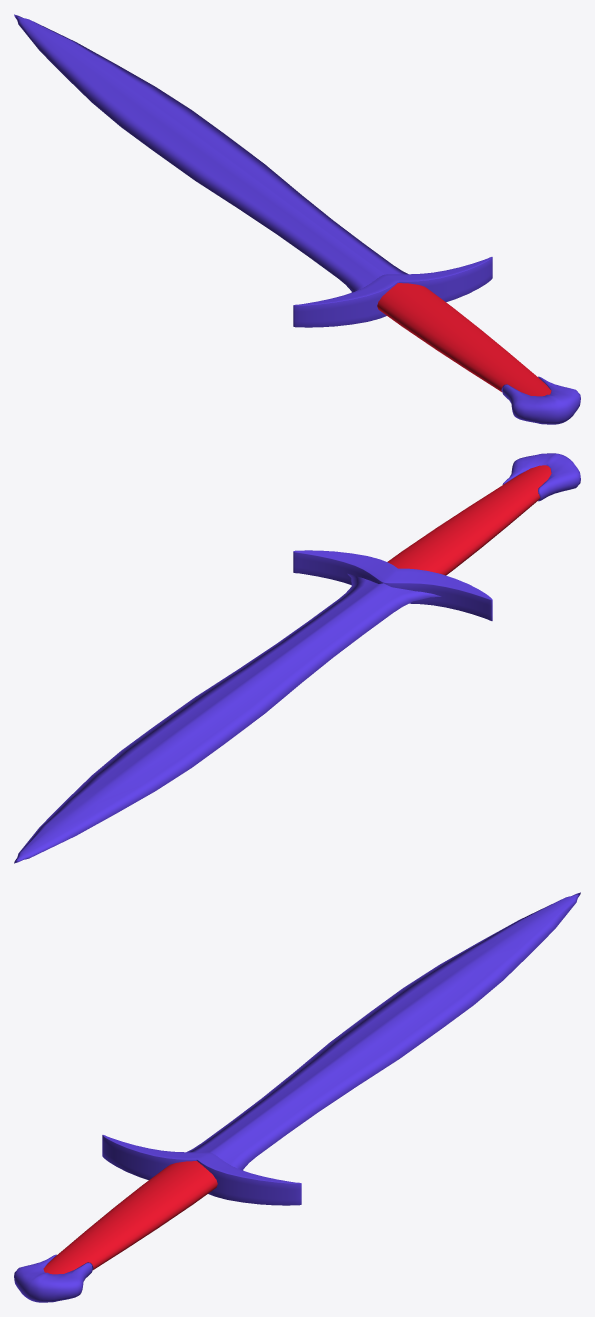
The picture shows the model from 3 angles, top to bottom: view 1: azimuth 30°, elevation 25°; view 2: azimuth 150°, elevation 25°; view 3: azimuth 330°, elevation 25°; orthographic projection.
Parts seen in each view (by area): view 1: Lame_Plane, Manche_Circle, Garde_Plane.002, Pommeau_Plane.001; view 2: Lame_Plane, Manche_Circle, Garde_Plane.002, Pommeau_Plane.001; view 3: Lame_Plane, Manche_Circle, Garde_Plane.002, Pommeau_Plane.001.
Boxes of the visible parts, x1=… form: Lame_Plane: x1=14, y1=14, x2=408, y2=292; Manche_Circle: x1=377, y1=283, x2=551, y2=396; Garde_Plane.002: x1=293, y1=257, x2=492, y2=327; Pommeau_Plane.001: x1=501, y1=376, x2=580, y2=424; Lame_Plane: x1=14, y1=573, x2=441, y2=863; Manche_Circle: x1=387, y1=465, x2=551, y2=575; Garde_Plane.002: x1=293, y1=550, x2=492, y2=620; Pommeau_Plane.001: x1=502, y1=453, x2=580, y2=501; Lame_Plane: x1=186, y1=892, x2=580, y2=1170; Manche_Circle: x1=43, y1=1161, x2=217, y2=1274; Garde_Plane.002: x1=102, y1=1135, x2=301, y2=1205; Pommeau_Plane.001: x1=14, y1=1254, x2=93, y2=1302.
Bounding box in the file's own units: 12.71 × 1.71 × 60.61.
